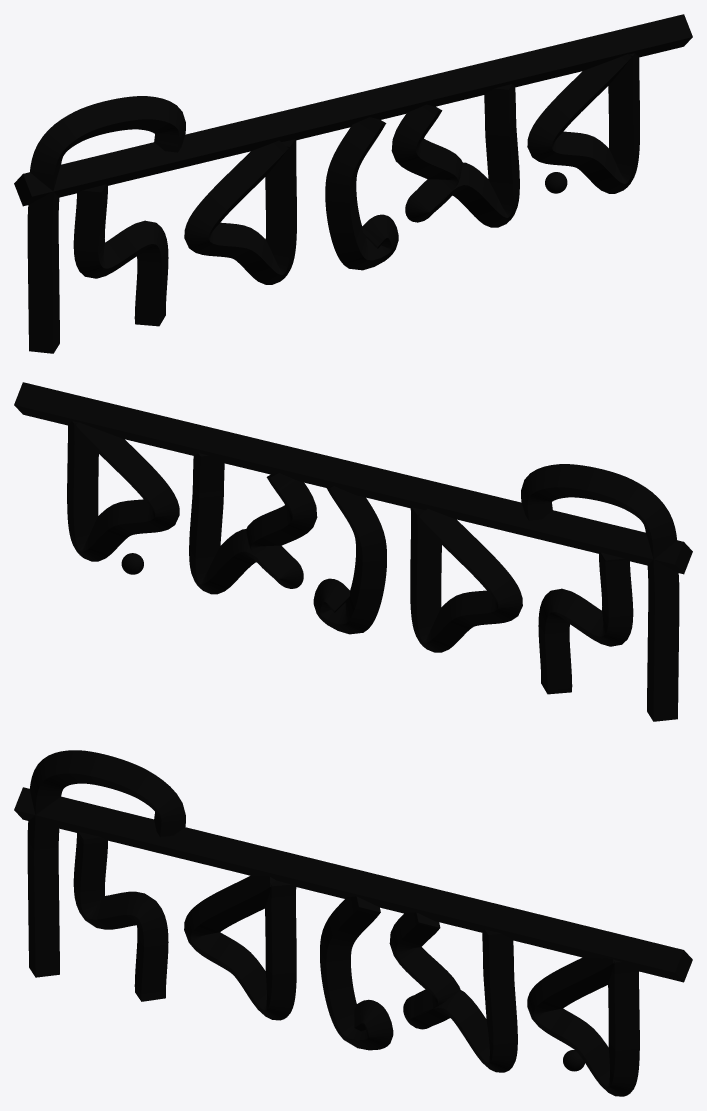
File: dibosher.glb
The picture shows the model from 3 angles, top to bottom: view 1: azimuth 30°, elevation 25°; view 2: azimuth 150°, elevation 25°; view 3: azimuth 330°, elevation 25°; orthographic projection.
Visible parts, largest first — view 1: mesh_id29, mesh_id33, mesh_id57, mesh_id47, mesh_id63, mesh_id37, mesh_id51; view 2: mesh_id29, mesh_id33, mesh_id57, mesh_id47, mesh_id63, mesh_id37, mesh_id51; view 3: mesh_id29, mesh_id33, mesh_id57, mesh_id47, mesh_id63, mesh_id37, mesh_id51.
Boxes of the visible parts, <box> form: mesh_id29: <box>14,14,692,206</box>; mesh_id33: <box>27,96,185,353</box>; mesh_id57: <box>391,84,519,227</box>; mesh_id47: <box>184,139,296,284</box>; mesh_id63: <box>527,53,639,193</box>; mesh_id37: <box>73,184,168,326</box>; mesh_id51: <box>325,117,398,270</box>; mesh_id29: <box>14,382,692,574</box>; mesh_id33: <box>521,464,679,721</box>; mesh_id57: <box>189,453,317,594</box>; mesh_id47: <box>410,507,522,652</box>; mesh_id63: <box>67,421,179,561</box>; mesh_id37: <box>538,552,633,694</box>; mesh_id51: <box>313,486,386,634</box>; mesh_id29: <box>14,787,692,982</box>; mesh_id33: <box>27,750,185,977</box>; mesh_id57: <box>389,912,517,1072</box>; mesh_id47: <box>184,875,296,1020</box>; mesh_id63: <box>527,957,639,1096</box>; mesh_id37: <box>73,832,168,1001</box>; mesh_id51: <box>320,896,393,1050</box>.
Size of the model in its own units: 1.28 by 0.4269 by 0.0871.
8 materials, 8 textured.
